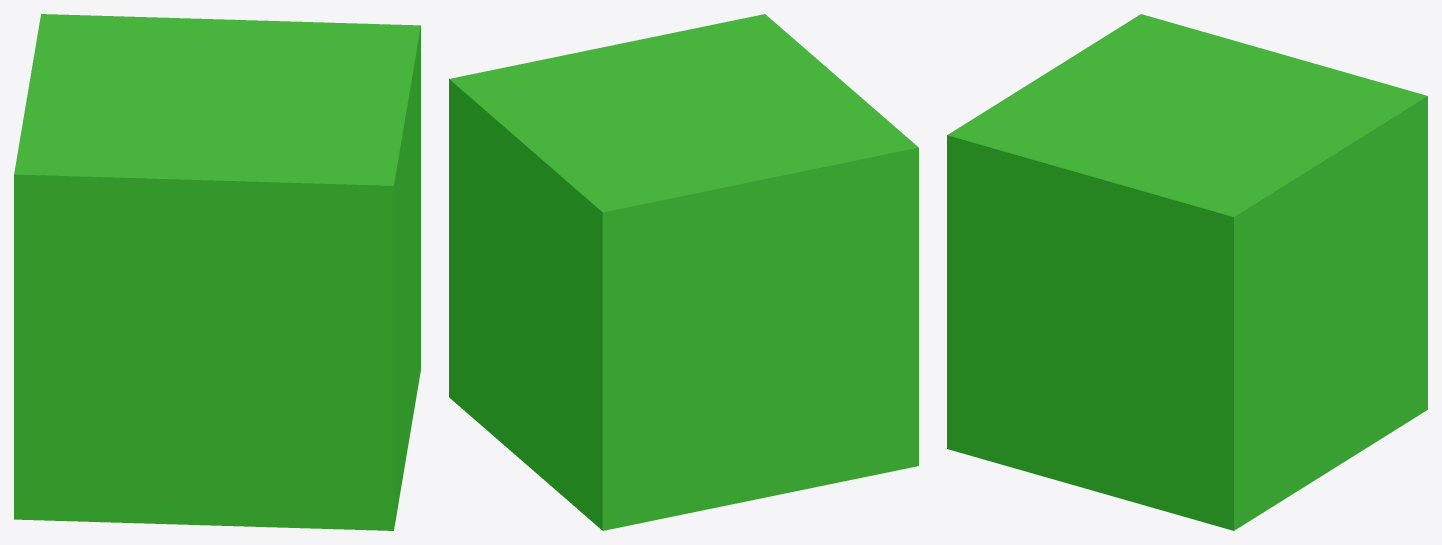
3 renders of one model, left to right at view 1: azimuth 30°, elevation 25°; view 2: azimuth 150°, elevation 25°; view 3: azimuth 270°, elevation 25°, orthographic. The views are drawn at different scales.
Parts seen in each view (by area): view 1: Cube; view 2: Cube; view 3: Cube.
Boxes of the visible parts, x1=… form: Cube: x1=14, y1=14, x2=420, y2=530; Cube: x1=449, y1=14, x2=918, y2=530; Cube: x1=947, y1=14, x2=1427, y2=530.
Bounding box in the file's own units: 4.25 × 3.06 × 4.25.
